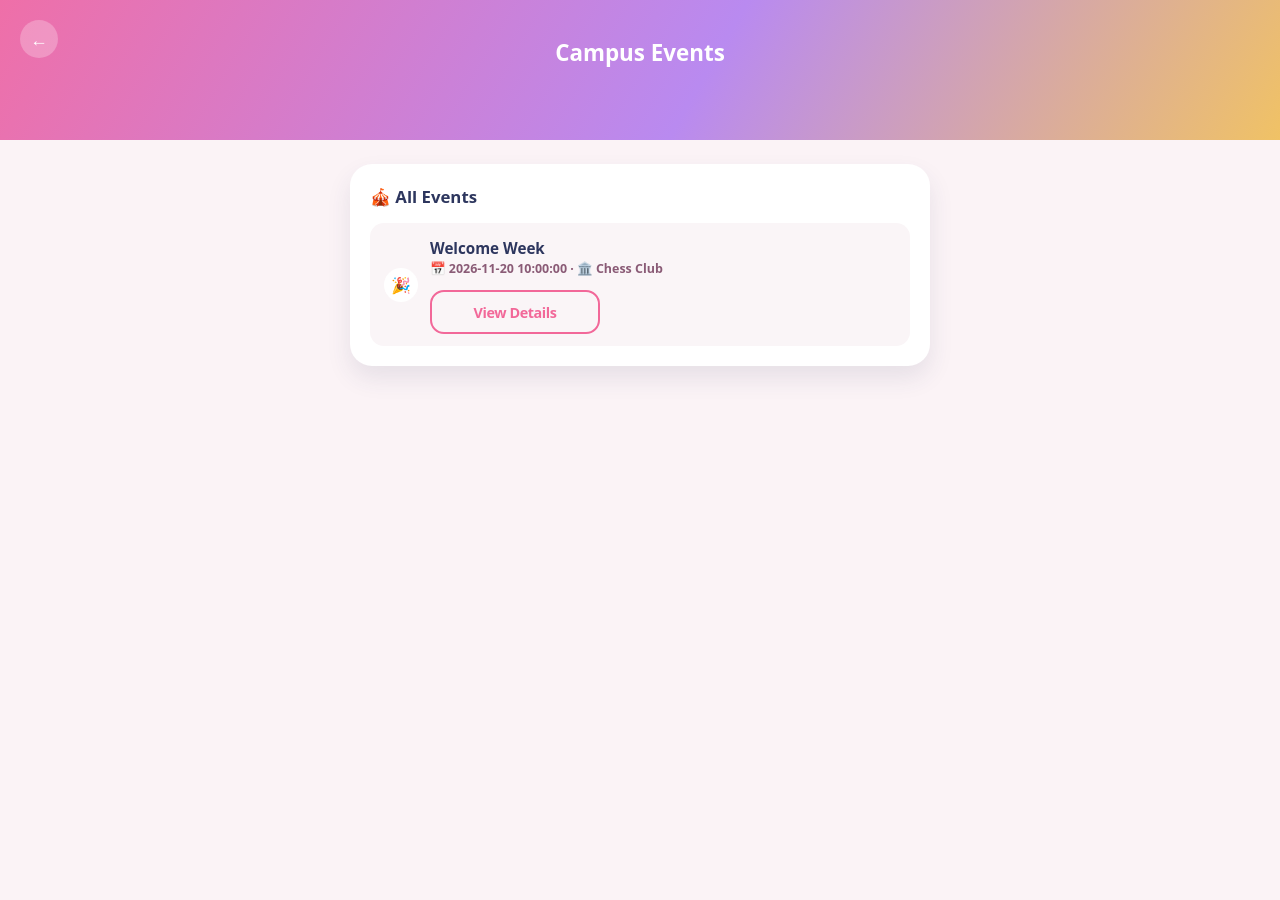
Test: EventsPage (favorite an event) › F13: a saved event is marked as saved in the events list
Click the button "View Details" at {"x": 515, "y": 312}, box x1=430 y1=290 x2=600 y2=334
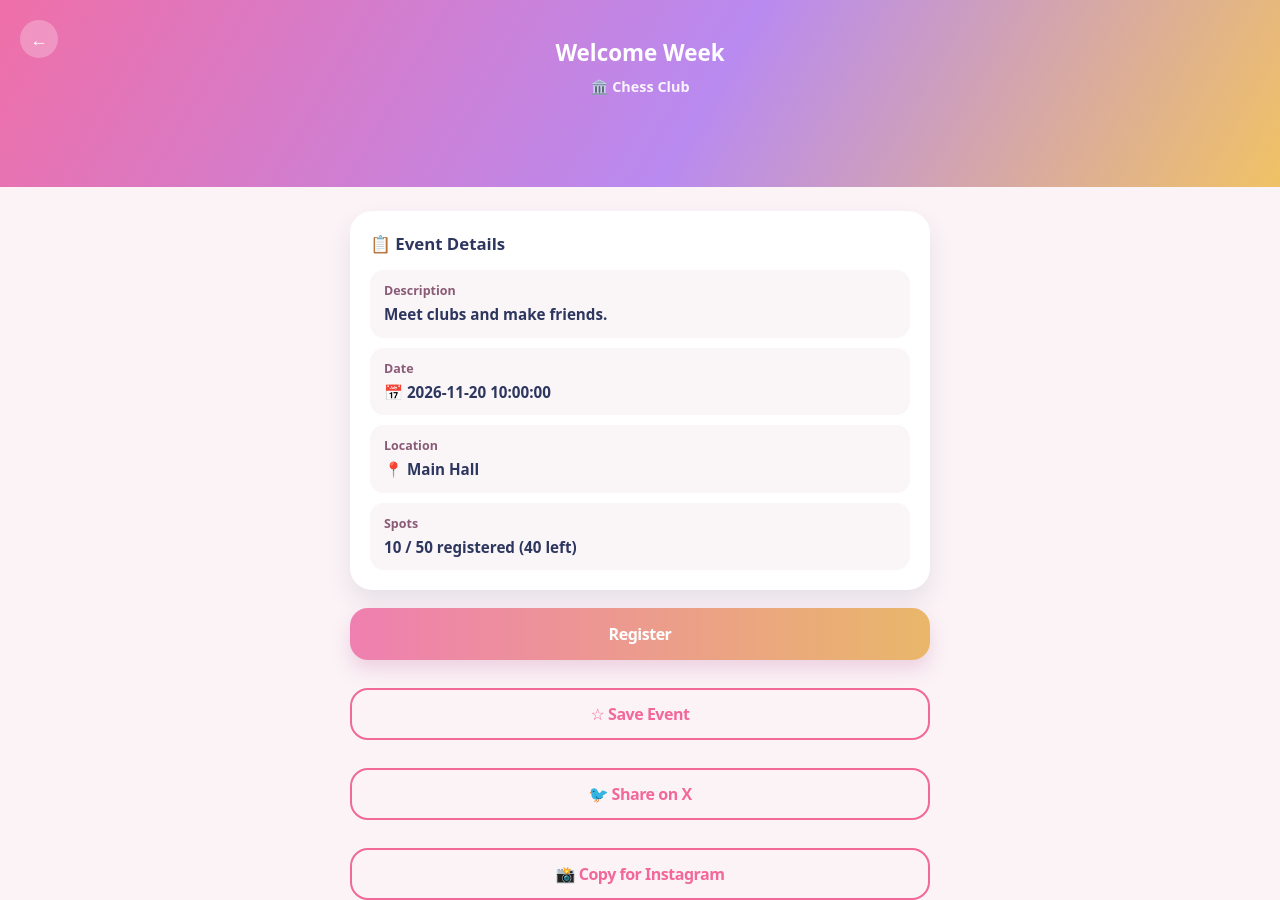
Click the button "☆ Save Event" at {"x": 640, "y": 714}, box x1=350 y1=688 x2=930 y2=740
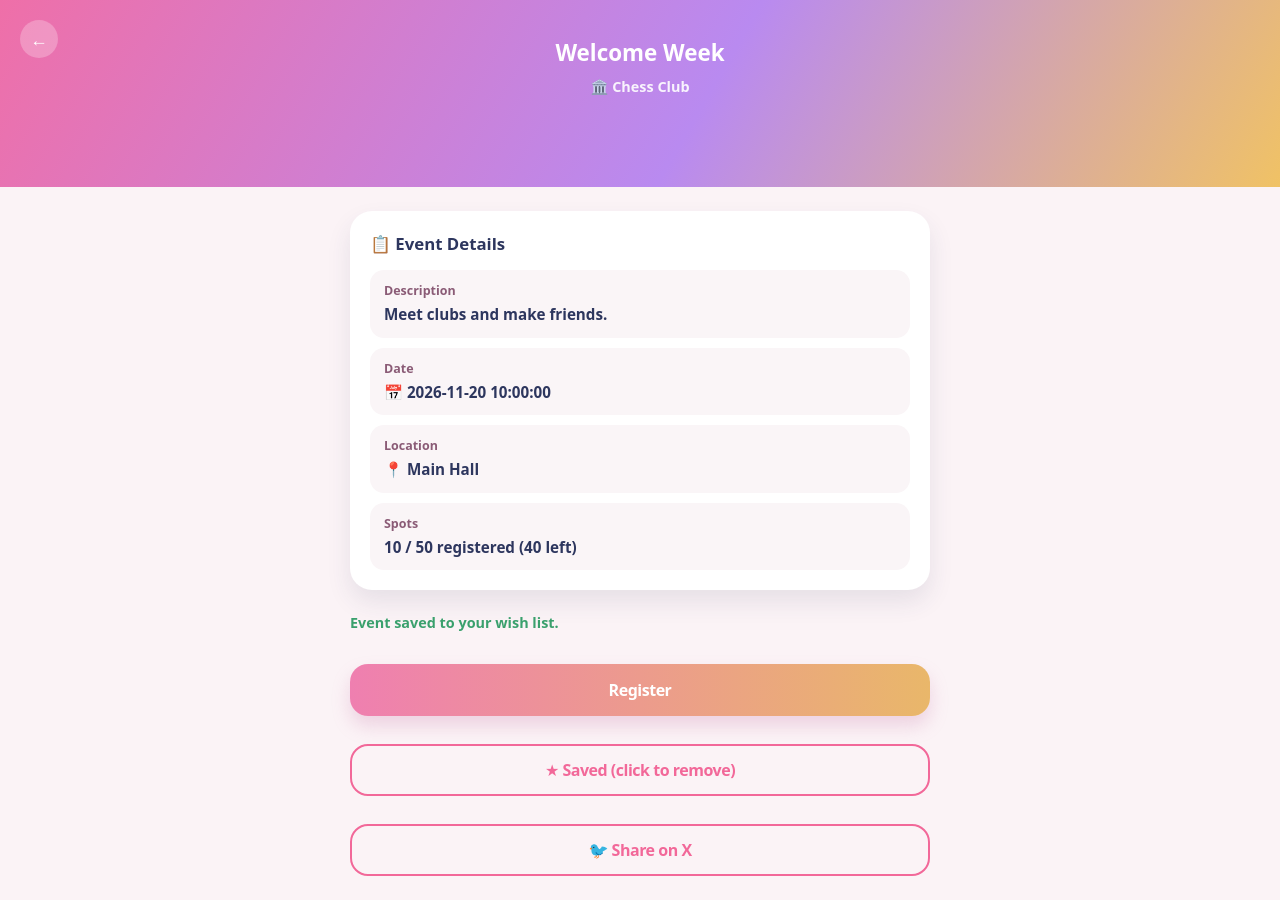
Result: the text "Event saved to your wish list." is shown at x1=350 y1=614 x2=559 y2=632
Click the button named "Back to events" at {"x": 39, "y": 39}, box x1=20 y1=20 x2=58 y2=58
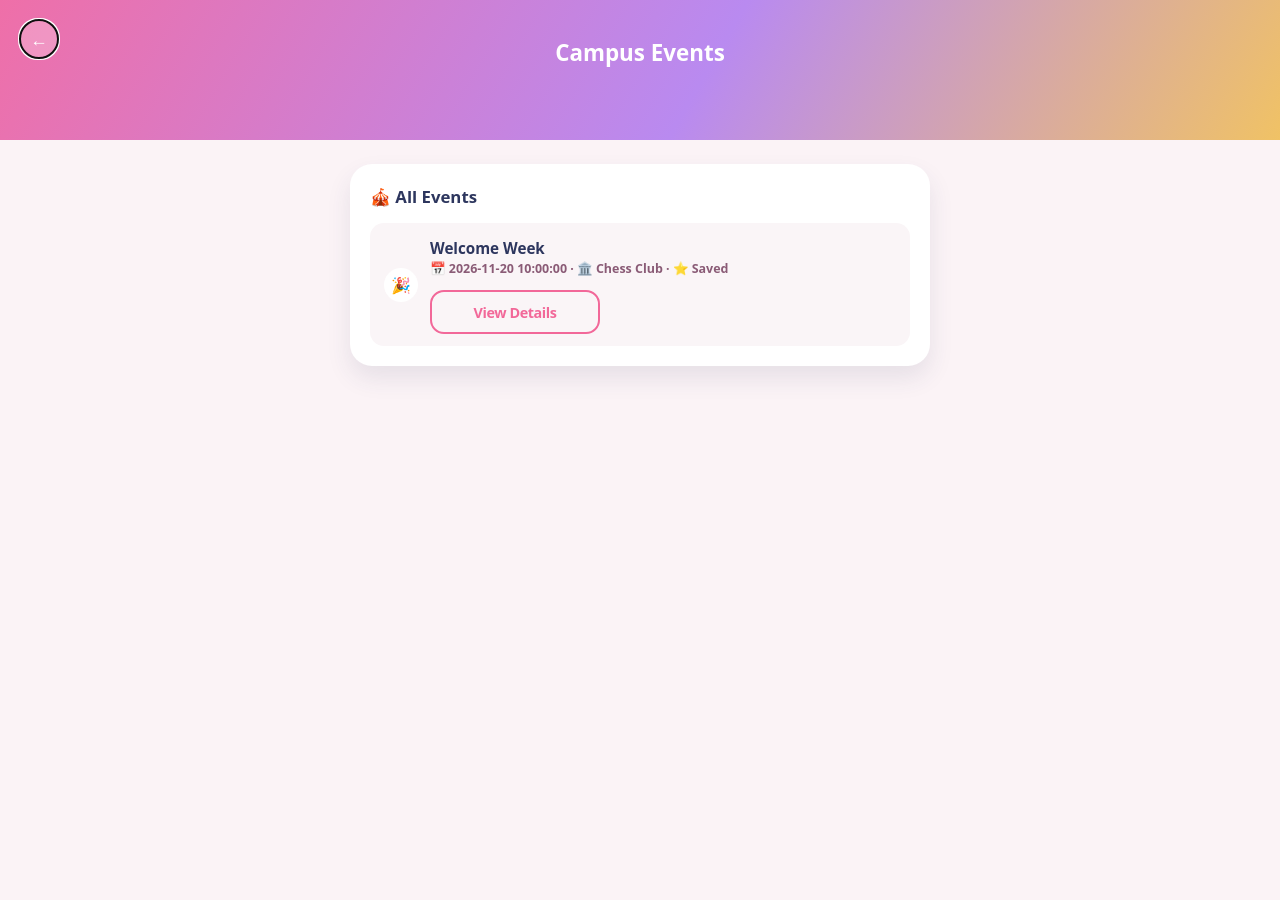
Result: the text "📅 2026-11-20 10:00:00 · 🏛️ Chess Club · ⭐ Saved" is shown at x1=430 y1=260 x2=728 y2=277
